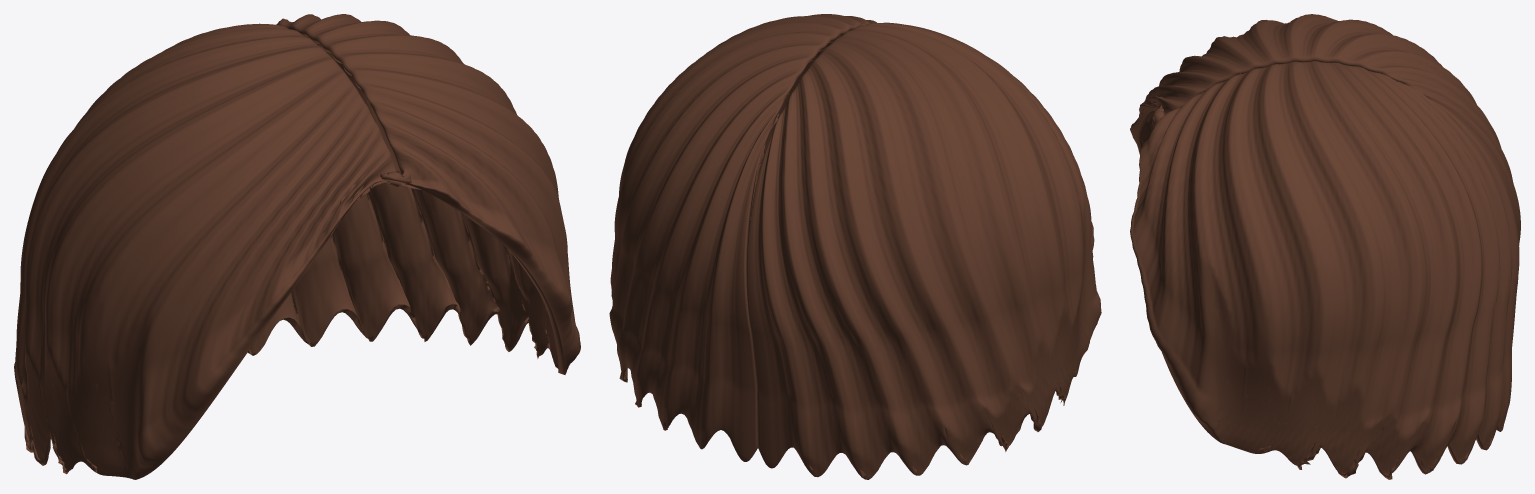
The model's file is Masculine-flow-pashmina252-hair.glb.
3 views of the same model, side by side, from view 1: azimuth 30°, elevation 25°; view 2: azimuth 150°, elevation 25°; view 3: azimuth 270°, elevation 25° (orthographic). The views are drawn at different scales.
Parts seen in each view (by area): view 1: 226 hair / Hair252 / flowing sculpt flow.001; view 2: 226 hair / Hair252 / flowing sculpt flow.001; view 3: 226 hair / Hair252 / flowing sculpt flow.001.
Boxes of the visible parts, x1,y1,x2,y2 form: 226 hair / Hair252 / flowing sculpt flow.001: (14,14,580,479); 226 hair / Hair252 / flowing sculpt flow.001: (609,14,1101,479); 226 hair / Hair252 / flowing sculpt flow.001: (1130,14,1520,479).
Size of the model in its own units: 1.07 by 0.8596 by 0.8447.
